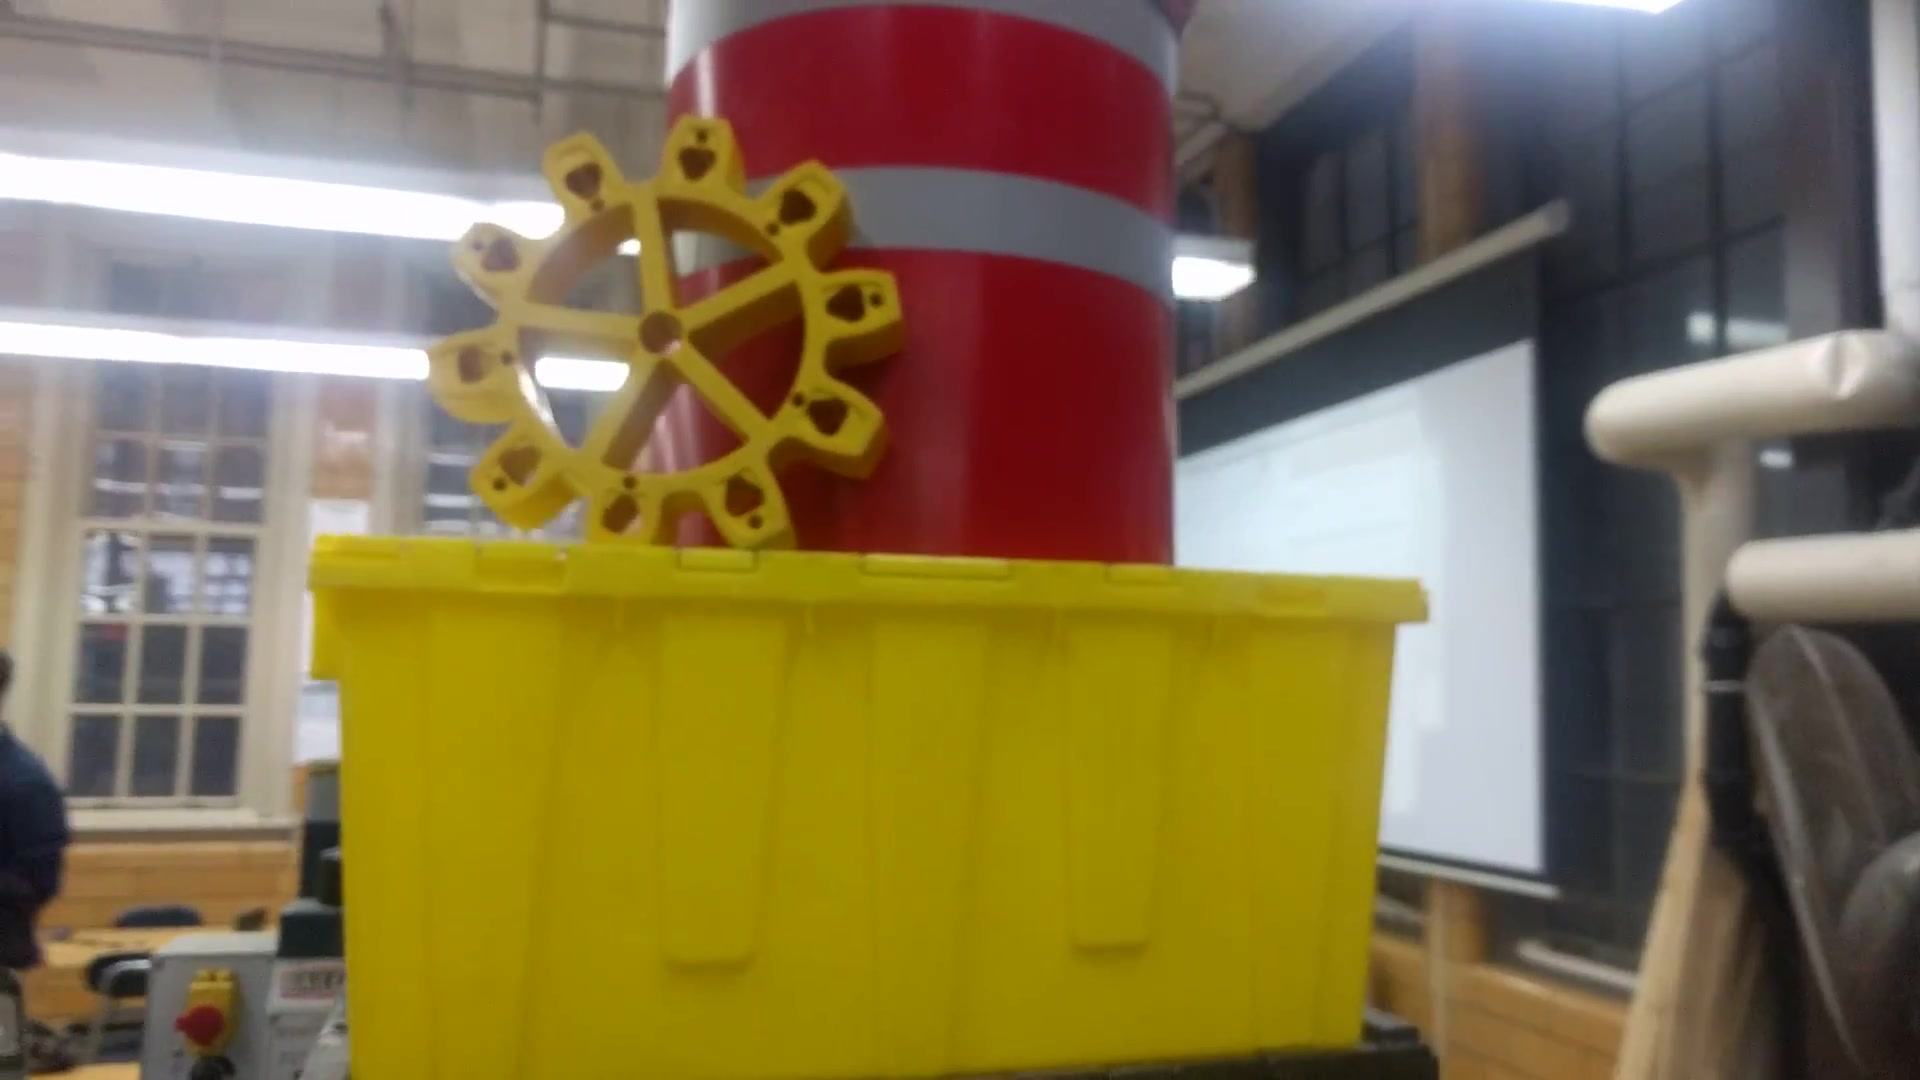gear: (410, 111, 911, 567)
